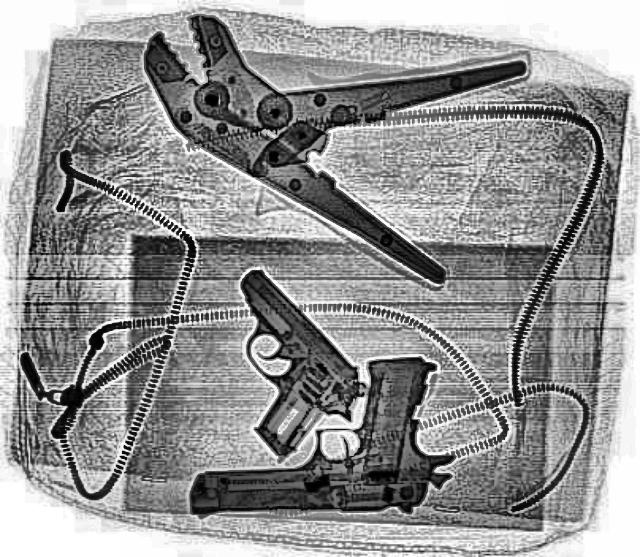Gun: (154, 267, 384, 458), (185, 356, 452, 514)
